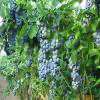Blueberry leaf: (15, 23, 29, 40), (90, 13, 100, 33), (75, 8, 88, 23), (48, 31, 65, 42), (28, 23, 37, 42), (65, 6, 78, 17), (87, 38, 94, 58), (63, 40, 76, 50), (70, 50, 79, 64), (79, 60, 84, 80), (36, 1, 43, 12), (29, 15, 37, 24), (45, 14, 52, 24), (56, 14, 62, 25)
